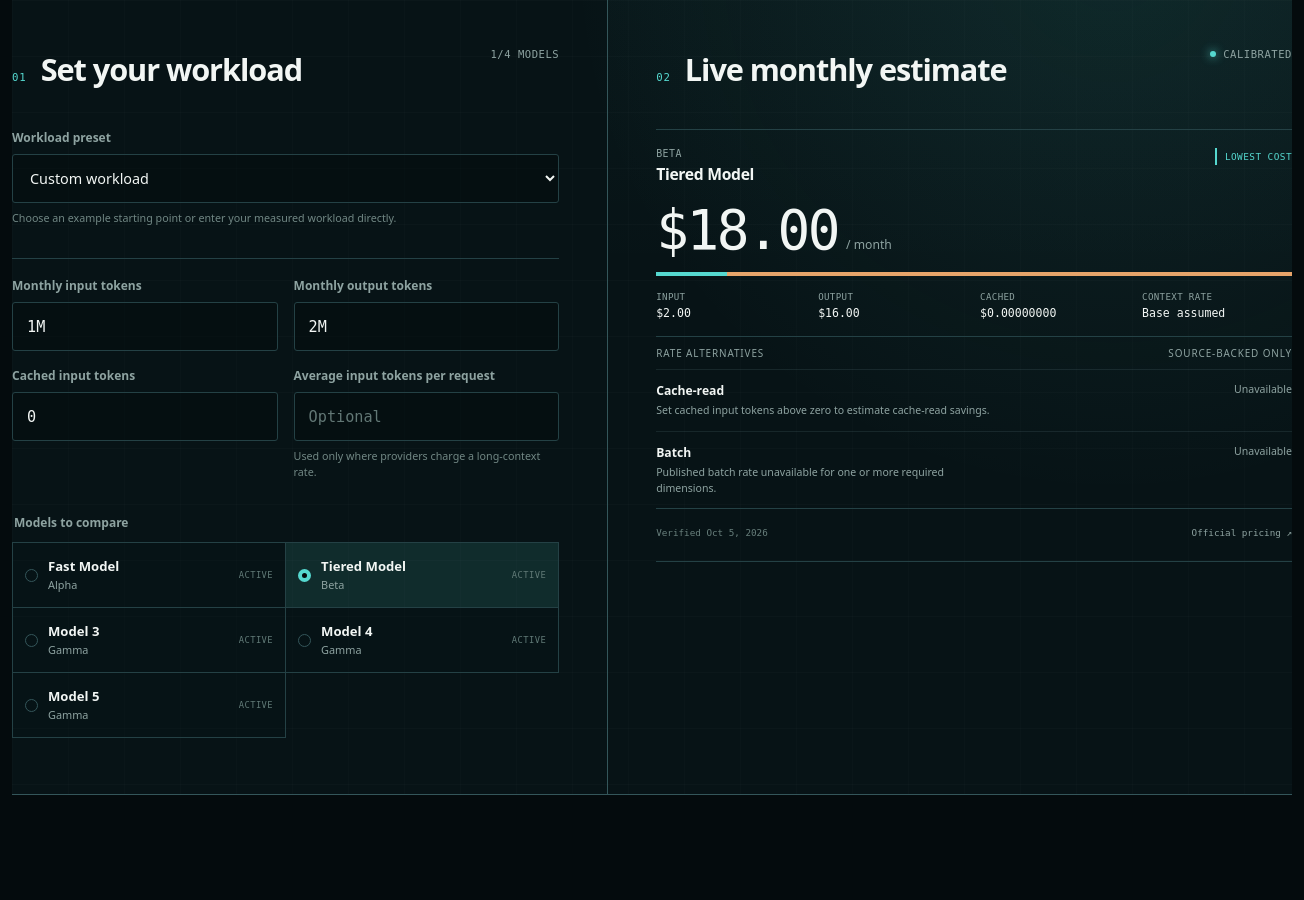
Test: Calculator › uses average request context to select a higher pricing band
Expected: the text "$18.00" is shown, [656,204,838,258]
Type "300K" into the field labelled "Average input tokens per request".
click(426, 416); type("300K")  # box [294,392,559,441]
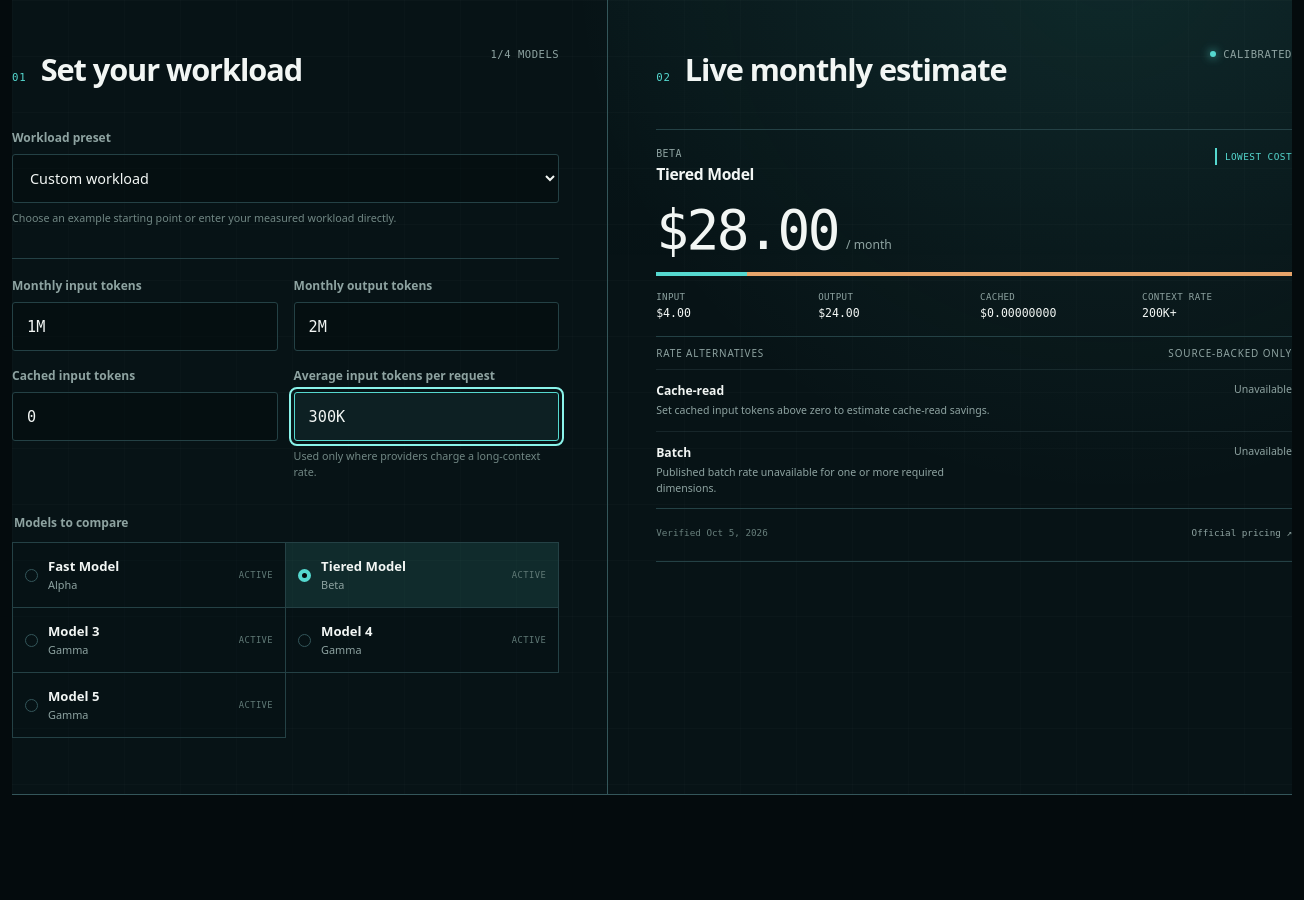
Result: the text "$28.00" is shown at [656,204,838,258]
